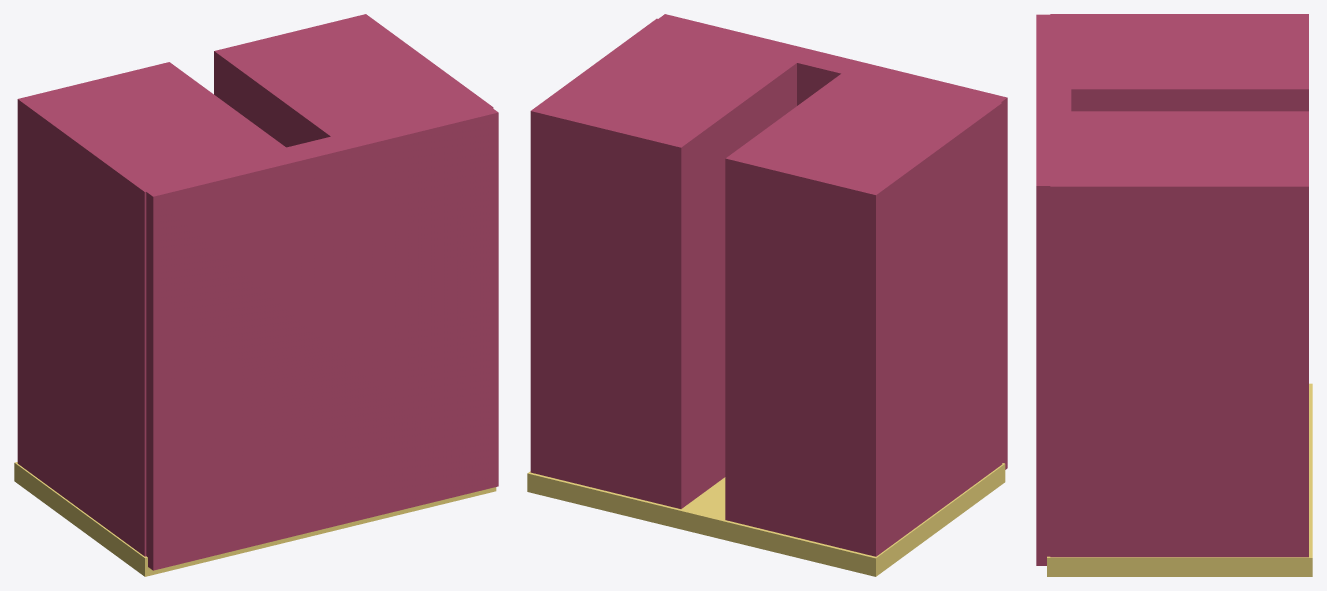
The model's file is bardo_saia.glb.
3 views of the same model, side by side, from view 1: azimuth 30°, elevation 25°; view 2: azimuth 150°, elevation 25°; view 3: azimuth 270°, elevation 25° (orthographic). The views are drawn at different scales.
Visible parts, largest first — view 1: bardo_saia; view 2: bardo_saia; view 3: bardo_saia.
Part boxes in pixels (x1,y1,x2,y2): bardo_saia: (14,14,498,576); bardo_saia: (527,14,1007,576); bardo_saia: (1036,14,1312,576).
Bounding box in the file's own units: 0.59 × 0.615 × 0.395.
